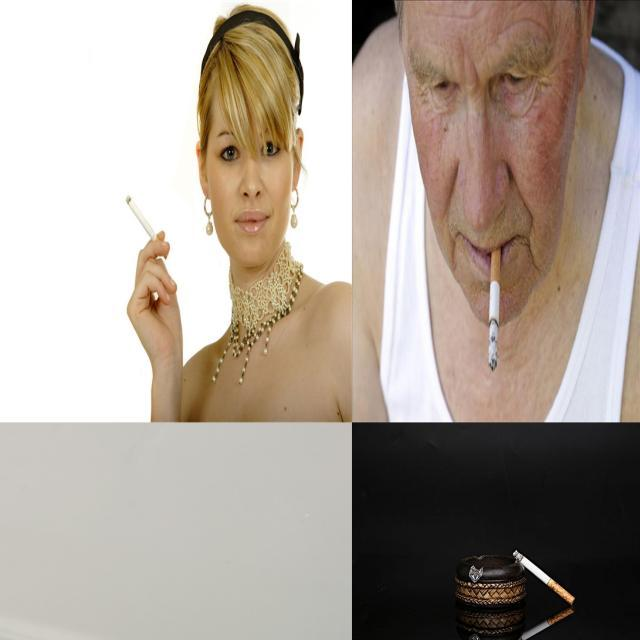cigarette: (513, 550, 575, 604), (126, 194, 168, 260), (486, 234, 504, 380), (518, 608, 574, 640)
